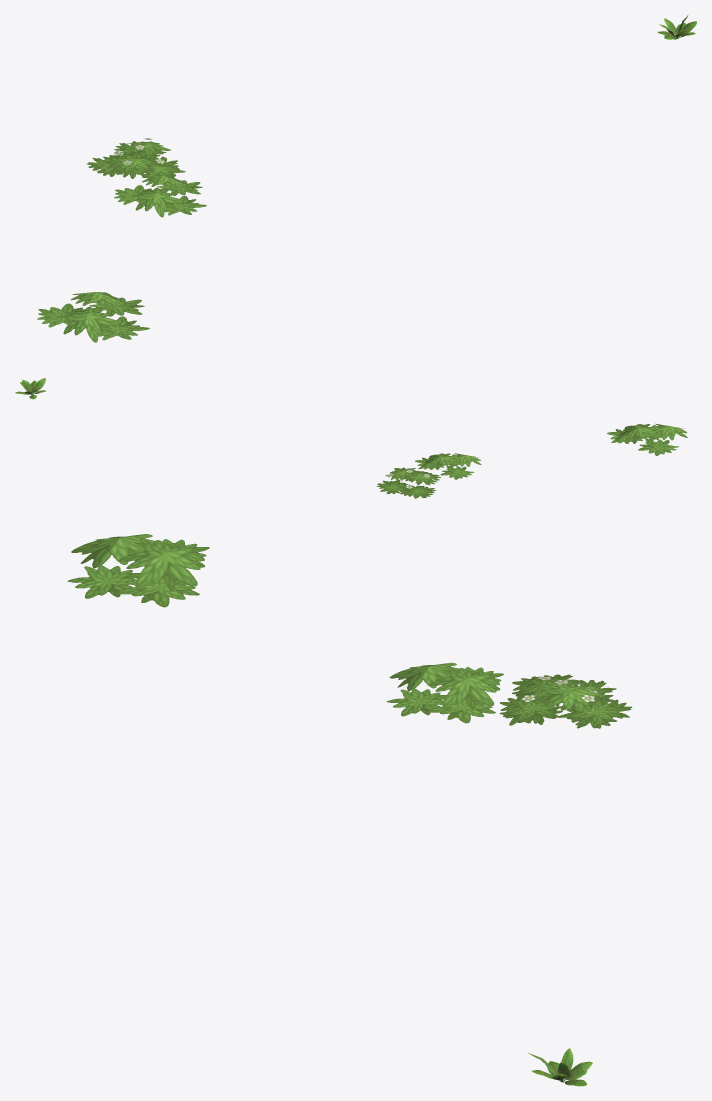
The model's file is Area_06_29.fbx.
3 renders of one model, top to bottom at view 1: azimuth 30°, elevation 25°; view 2: azimuth 150°, elevation 25°; view 3: azimuth 270°, elevation 25°, orthographic. The views are drawn at different scales.
Visible parts, largest first — view 1: Area_06_29; view 2: Area_06_29; view 3: Area_06_29.
Part boxes in pixels (bbox=[...]): Area_06_29: bbox=[37, 15, 696, 342]; Area_06_29: bbox=[15, 378, 687, 498]; Area_06_29: bbox=[67, 534, 632, 1086].
Size of the model in its own units: 2180 by 67.42 by 977.
